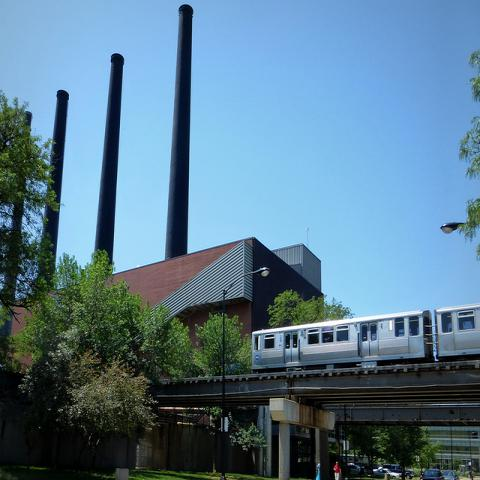car: (368, 464, 404, 479), (421, 471, 445, 479), (442, 470, 460, 480), (347, 463, 360, 476)
